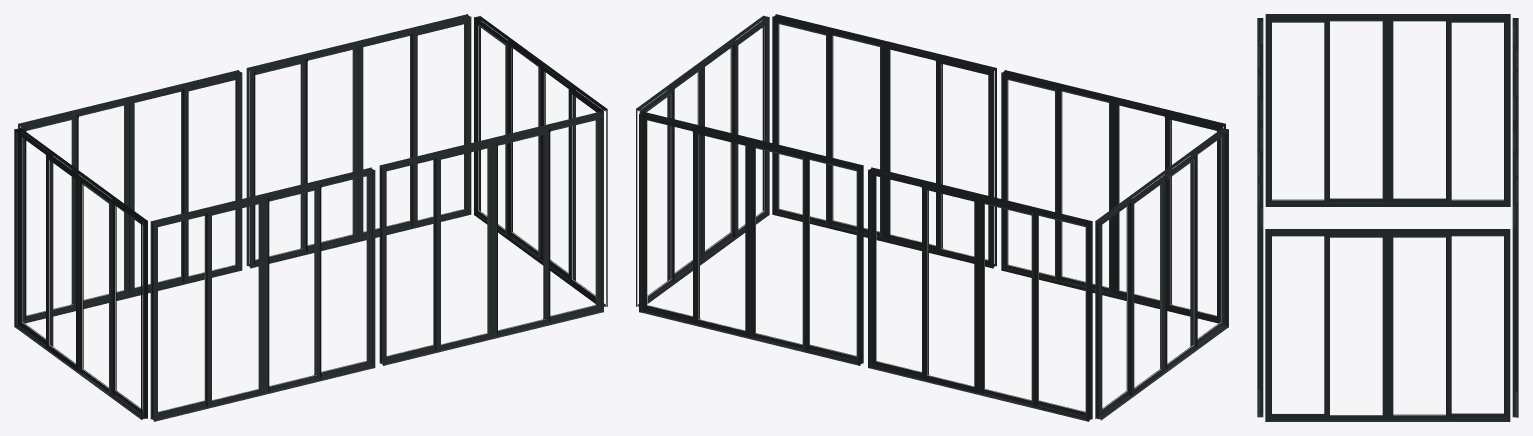
3 renders of one model, left to right at view 1: azimuth 30°, elevation 25°; view 2: azimuth 150°, elevation 25°; view 3: azimuth 270°, elevation 25°, orthographic. The views are drawn at different scales.
Visible parts, largest first — view 1: priximbattable_net_pergolanda_354468_pergolanda_toit_plat_av, folha2_2, folha2, folha1_5, folha1_4, folha3, folha3_2, folha4_5, folha3_3, folha2_5, folha2_3, folha2_4 (+13 smaller); view 2: priximbattable_net_pergolanda_354468_pergolanda_toit_plat_av, folha2_5, folha2_4, folha3_4, folha3_5, folha1, folha4, folha4_2, folha2_3, folha1_6, folha2, folha2_2 (+13 smaller); view 3: priximbattable_net_pergolanda_354468_pergolanda_toit_plat_av, folha2_6, folha3_6, folha1_3, folha4_3, folha2_3, folha1_6, folha3_3, folha4_6, folha2_5, folha1_5, folha4 (+1 smaller).
Part boxes in pixels (x1,y1,x2,y2): priximbattable_net_pergolanda_354468_pergolanda_toit_plat_av: (14, 14, 607, 421); folha2_2: (206, 199, 265, 406); folha2: (435, 143, 494, 350); folha1_5: (411, 19, 469, 226); folha1_4: (182, 75, 240, 282); folha3: (494, 129, 550, 335); folha3_2: (265, 185, 321, 391); folha4_5: (249, 58, 307, 265); folha3_3: (78, 178, 114, 395); folha2_5: (356, 30, 411, 238); folha2_3: (46, 152, 80, 371); folha2_4: (127, 86, 182, 294); priximbattable_net_pergolanda_354468_pergolanda_toit_plat_av: (636, 14, 1228, 421); folha2_5: (692, 129, 752, 337); folha2_4: (921, 185, 981, 393); folha3_4: (979, 199, 1037, 405); folha3_5: (750, 143, 808, 349); folha1: (935, 58, 993, 265); folha4: (775, 19, 831, 225); folha4_2: (1004, 75, 1060, 281); folha2_3: (1129, 178, 1164, 396); folha1_6: (733, 20, 768, 237); folha2: (883, 43, 943, 250); folha2_2: (1112, 99, 1172, 305); priximbattable_net_pergolanda_354468_pergolanda_toit_plat_av: (1257, 14, 1518, 421); folha2_6: (1324, 234, 1389, 420); folha3_6: (1389, 234, 1451, 420); folha1_3: (1446, 19, 1508, 204); folha4_3: (1268, 19, 1329, 203); folha2_3: (1386, 19, 1446, 203); folha1_6: (1267, 231, 1324, 418); folha3_3: (1329, 19, 1386, 203); folha4_6: (1451, 231, 1509, 417); folha2_5: (1515, 178, 1518, 391); folha1_5: (1513, 202, 1515, 416); folha4: (1260, 202, 1262, 414).
Size of the model in its own units: 589 by 240 by 299.
Materials: 1 (1 with a texture image).
